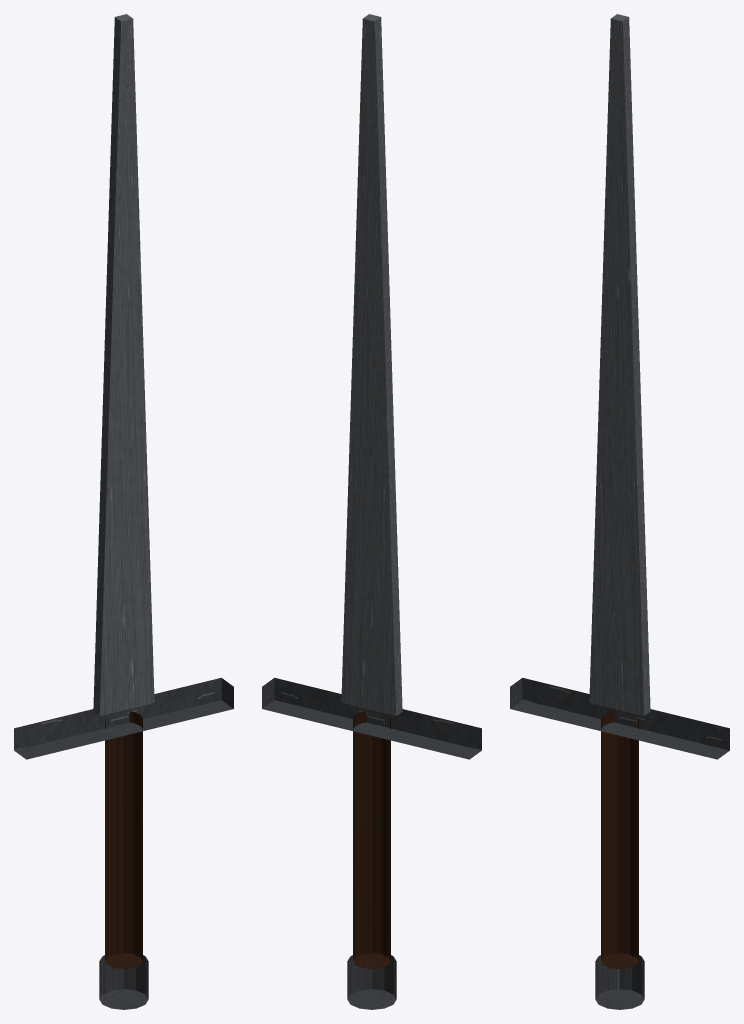
The model's file is two_handed_sword.glb.
3 renders of one model, left to right at view 1: azimuth 30°, elevation 25°; view 2: azimuth 150°, elevation 25°; view 3: azimuth 330°, elevation 25°, orthographic.
Parts seen in each view (by area): view 1: two_handed_sword; view 2: two_handed_sword; view 3: two_handed_sword.
Part boxes in pixels (left/top/right/bottom): two_handed_sword: left=14, top=14, right=233, bottom=1009; two_handed_sword: left=262, top=14, right=481, bottom=1009; two_handed_sword: left=510, top=14, right=729, bottom=1009.
Size of the model in its own units: 0.34 by 1.54 by 0.07.
3 materials, 3 textured.
